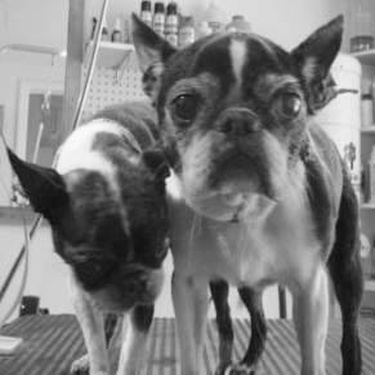dog: (122, 8, 369, 371), (2, 101, 181, 371)
